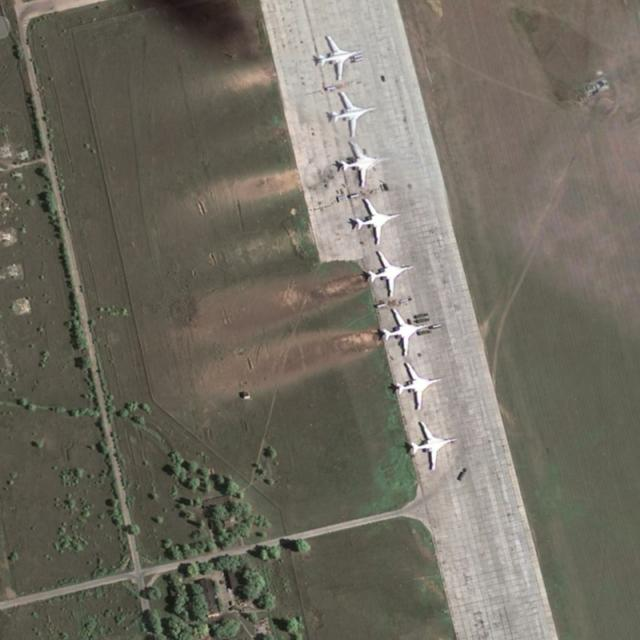fighter jet: (317, 90, 388, 141), (327, 140, 400, 188), (379, 367, 451, 410), (307, 34, 365, 86), (360, 250, 422, 296), (374, 310, 432, 353), (408, 423, 464, 466), (350, 194, 400, 242)
